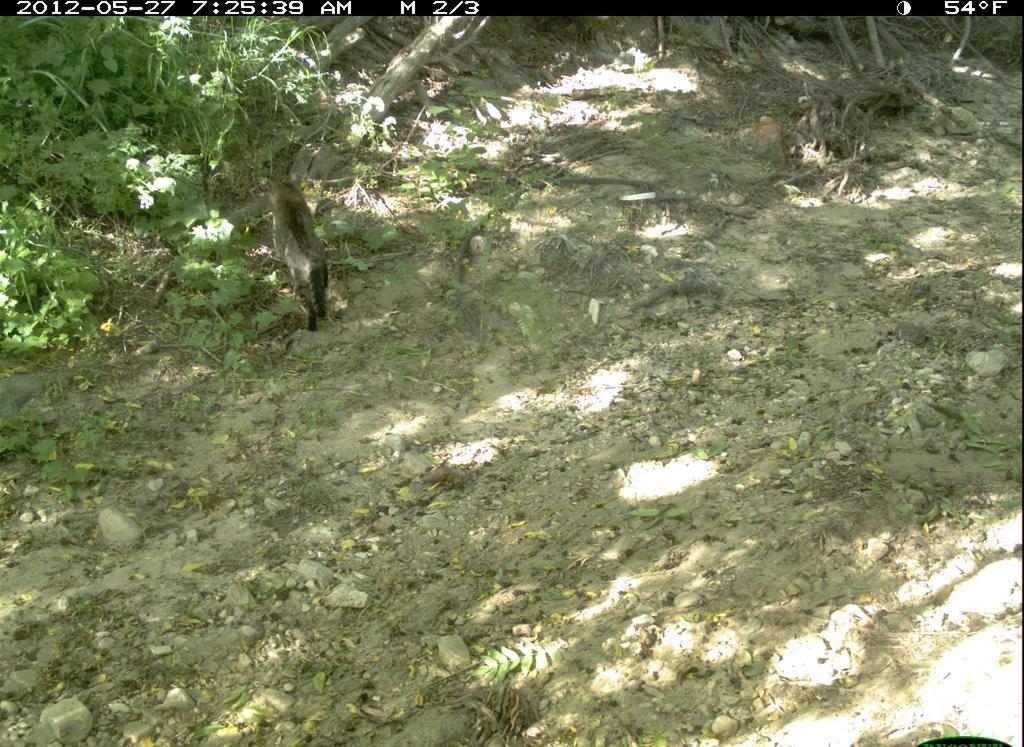cat: (235, 123, 400, 365)
